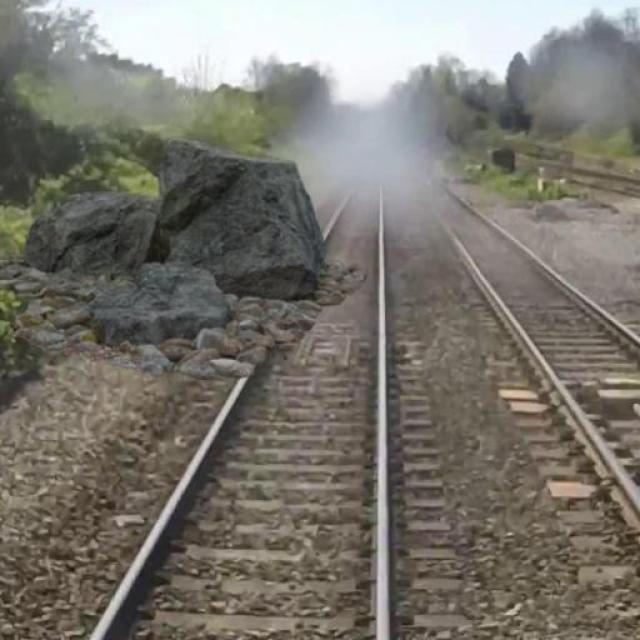Stone: (151, 131, 344, 304), (84, 255, 270, 361), (26, 179, 173, 268)
